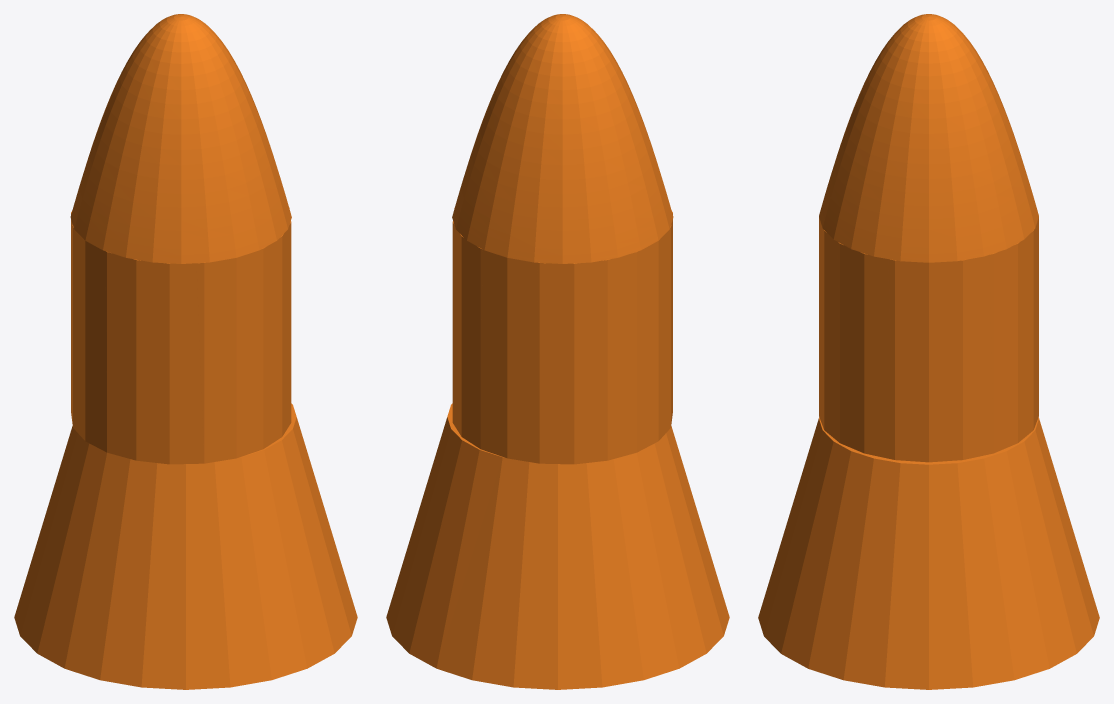
Rendered from rocket.obj.
3 views of the same model, side by side, from view 1: azimuth 30°, elevation 25°; view 2: azimuth 150°, elevation 25°; view 3: azimuth 270°, elevation 25° (orthographic).
Visible parts, largest first — view 1: obj_0; view 2: obj_0; view 3: obj_0.
Part boxes in pixels (x1,y1,x2,y2): obj_0: (14,14,357,689); obj_0: (386,14,729,689); obj_0: (758,14,1099,689).
Bounding box in the file's own units: 17.82 × 34.45 × 17.82.
